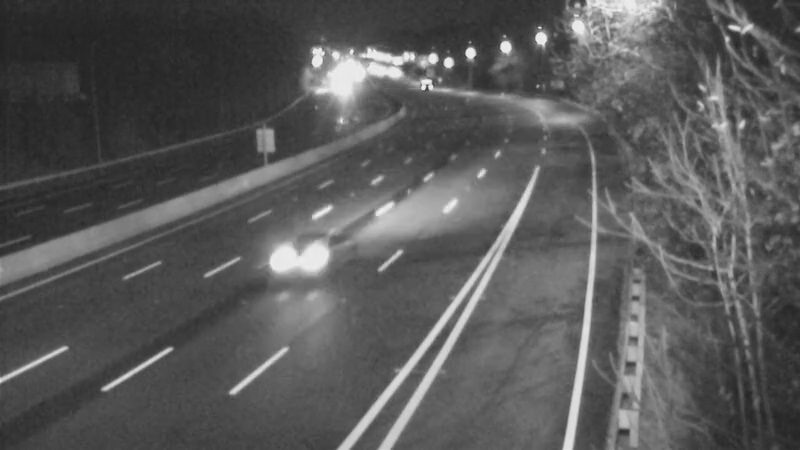vehicle: (263, 217, 343, 297), (395, 58, 445, 108)
